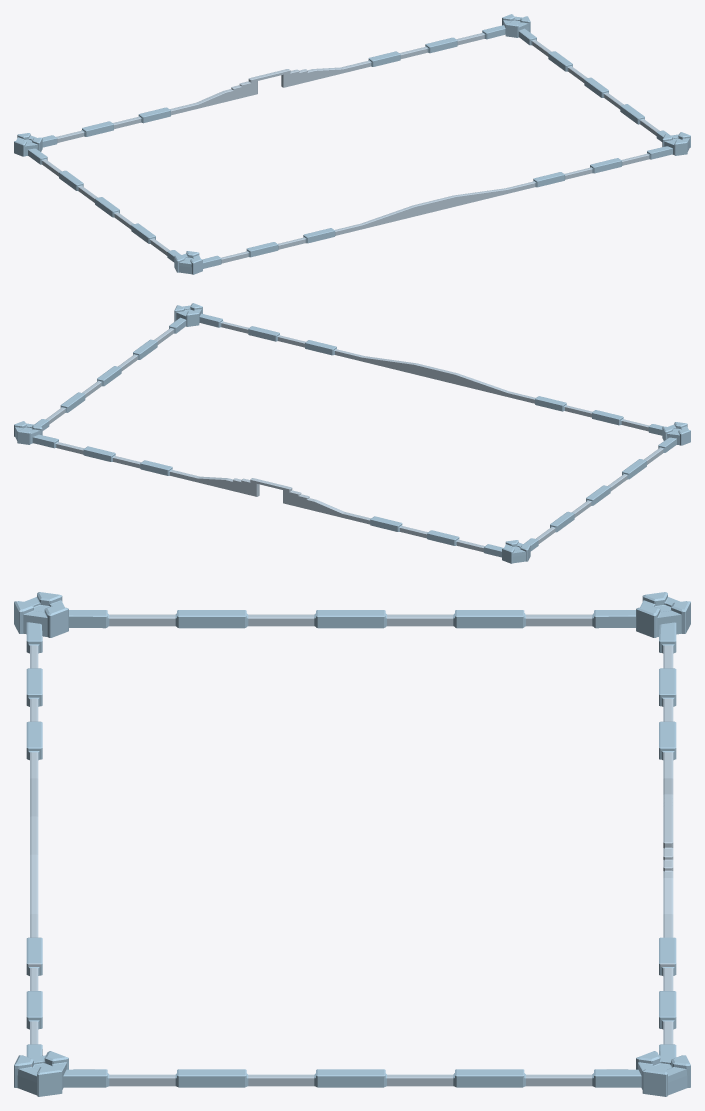
The model's file is fortress.fbx.
The picture shows the model from 3 angles, top to bottom: view 1: azimuth 30°, elevation 25°; view 2: azimuth 150°, elevation 25°; view 3: azimuth 270°, elevation 25°; orthographic projection. The views are drawn at different scales.
Visible parts, largest first — view 1: fortress; view 2: fortress; view 3: fortress.
Part boxes in pixels (<box>): fortress: <box>14,14,690,274</box>; fortress: <box>14,303,690,563</box>; fortress: <box>14,592,690,1096</box>.
Bounding box in the file's own units: 701 × 13742 × 23180.
